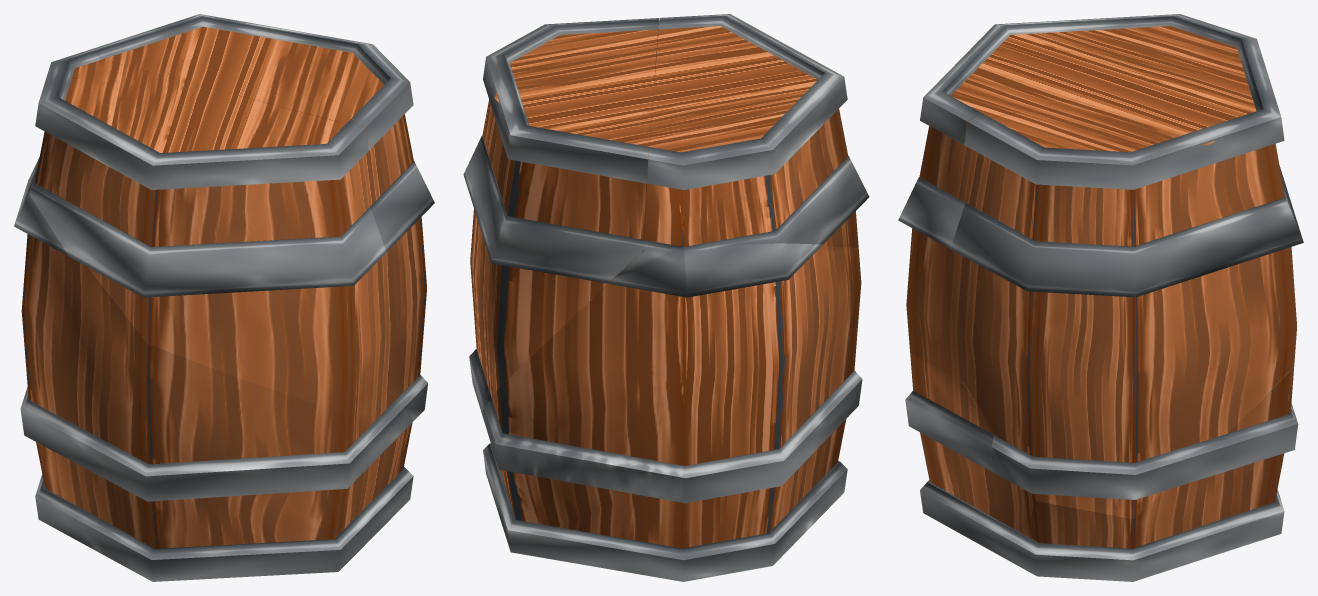
The model's file is wooden-Drum.fbx.
3 renders of one model, left to right at view 1: azimuth 30°, elevation 25°; view 2: azimuth 150°, elevation 25°; view 3: azimuth 270°, elevation 25°, orthographic.
Visible parts, largest first — view 1: MESH_BarrelAndCrates_MAT_TrimSheet_Wood_0_001_cell, MESH_BarrelAndCrates_MAT_TrimSheet_Wood_0_001_cell.002, MESH_BarrelAndCrates_MAT_TrimSheet_Wood_0_001_cell.001; view 2: MESH_BarrelAndCrates_MAT_TrimSheet_Wood_0_001_cell.002, MESH_BarrelAndCrates_MAT_TrimSheet_Wood_0_001_cell.001, MESH_BarrelAndCrates_MAT_TrimSheet_Wood_0_001_cell; view 3: MESH_BarrelAndCrates_MAT_TrimSheet_Wood_0_001_cell.001, MESH_BarrelAndCrates_MAT_TrimSheet_Wood_0_001_cell.002, MESH_BarrelAndCrates_MAT_TrimSheet_Wood_0_001_cell.
Part boxes in pixels (<box>): MESH_BarrelAndCrates_MAT_TrimSheet_Wood_0_001_cell: <box>29,51,386,414</box>; MESH_BarrelAndCrates_MAT_TrimSheet_Wood_0_001_cell.002: <box>14,157,413,581</box>; MESH_BarrelAndCrates_MAT_TrimSheet_Wood_0_001_cell.001: <box>82,14,434,420</box>; MESH_BarrelAndCrates_MAT_TrimSheet_Wood_0_001_cell.002: <box>481,243,862,581</box>; MESH_BarrelAndCrates_MAT_TrimSheet_Wood_0_001_cell.001: <box>463,18,658,411</box>; MESH_BarrelAndCrates_MAT_TrimSheet_Wood_0_001_cell: <box>644,14,869,249</box>; MESH_BarrelAndCrates_MAT_TrimSheet_Wood_0_001_cell.001: <box>950,53,1303,519</box>; MESH_BarrelAndCrates_MAT_TrimSheet_Wood_0_001_cell.002: <box>905,165,1298,581</box>; MESH_BarrelAndCrates_MAT_TrimSheet_Wood_0_001_cell: <box>898,14,1261,381</box>.
Size of the model in its own units: 46.53 by 53.33 by 46.53.
2 materials, 1 textured.
